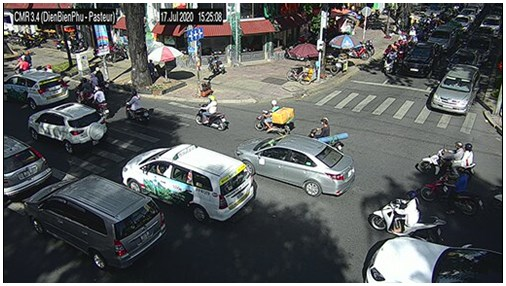xe_hoi: (23, 174, 167, 270), (122, 144, 256, 223), (238, 135, 356, 195), (367, 236, 502, 282), (28, 102, 108, 152), (4, 135, 52, 197), (4, 70, 71, 110), (429, 62, 479, 115), (404, 43, 444, 76), (466, 28, 491, 60), (449, 49, 477, 76), (431, 24, 457, 50), (481, 15, 500, 36)
xe_may: (370, 191, 443, 243), (420, 169, 484, 216), (415, 142, 477, 178), (253, 97, 294, 136), (308, 116, 345, 152), (195, 95, 227, 131), (125, 90, 150, 124), (90, 87, 110, 119), (74, 76, 91, 106), (384, 49, 396, 74), (95, 67, 105, 93)
